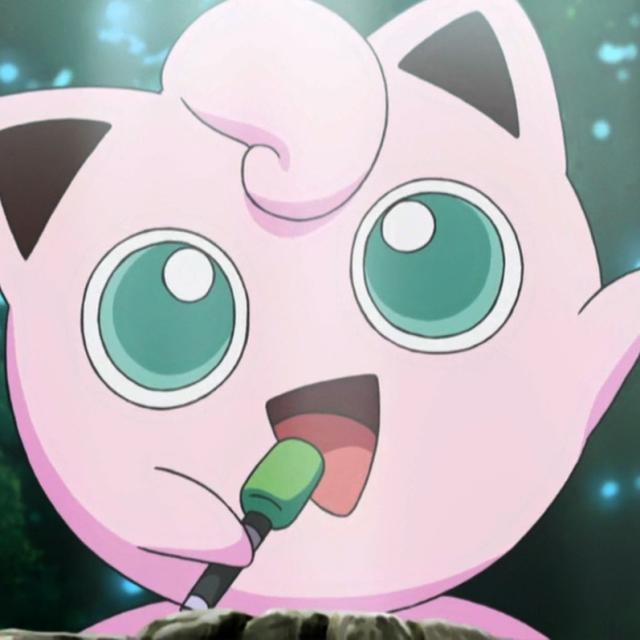Jigglypuff: (5, 9, 613, 601)
